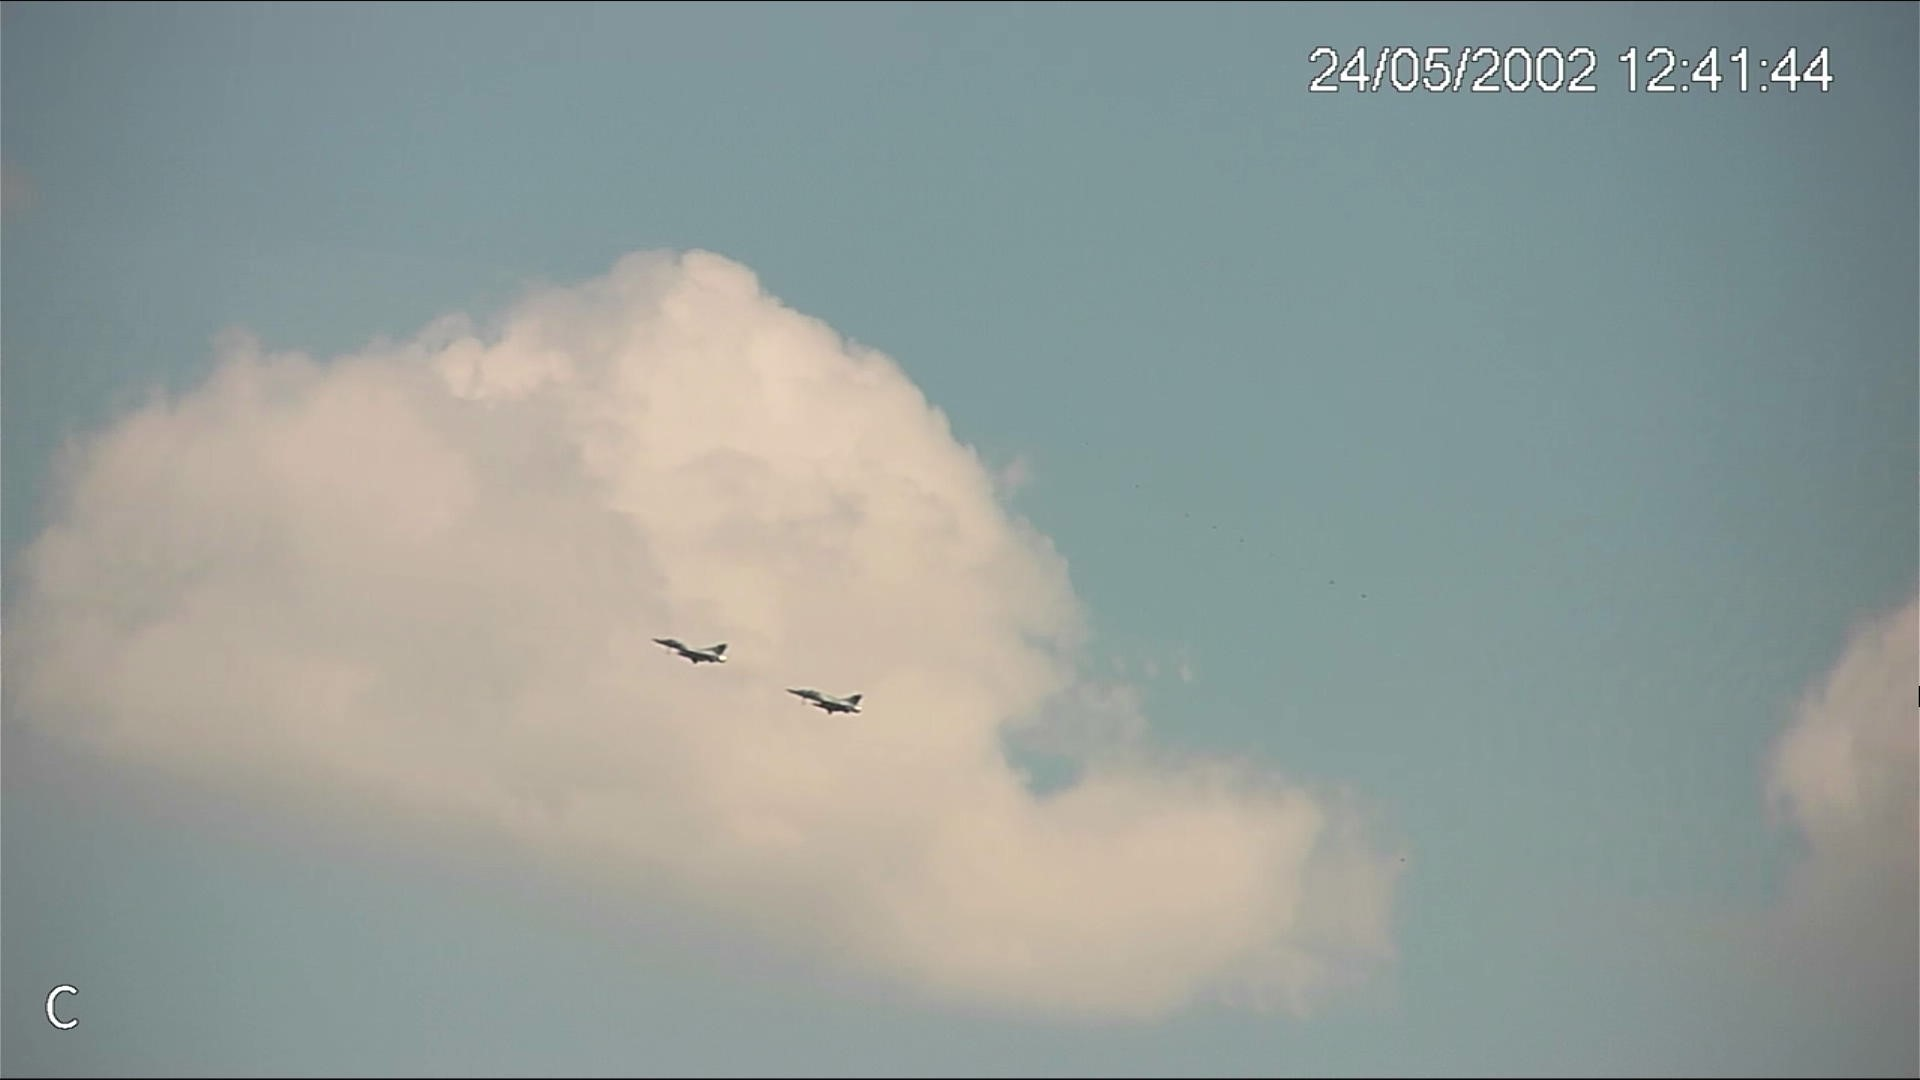SU_30: (653, 634, 732, 666), (785, 686, 866, 715)
